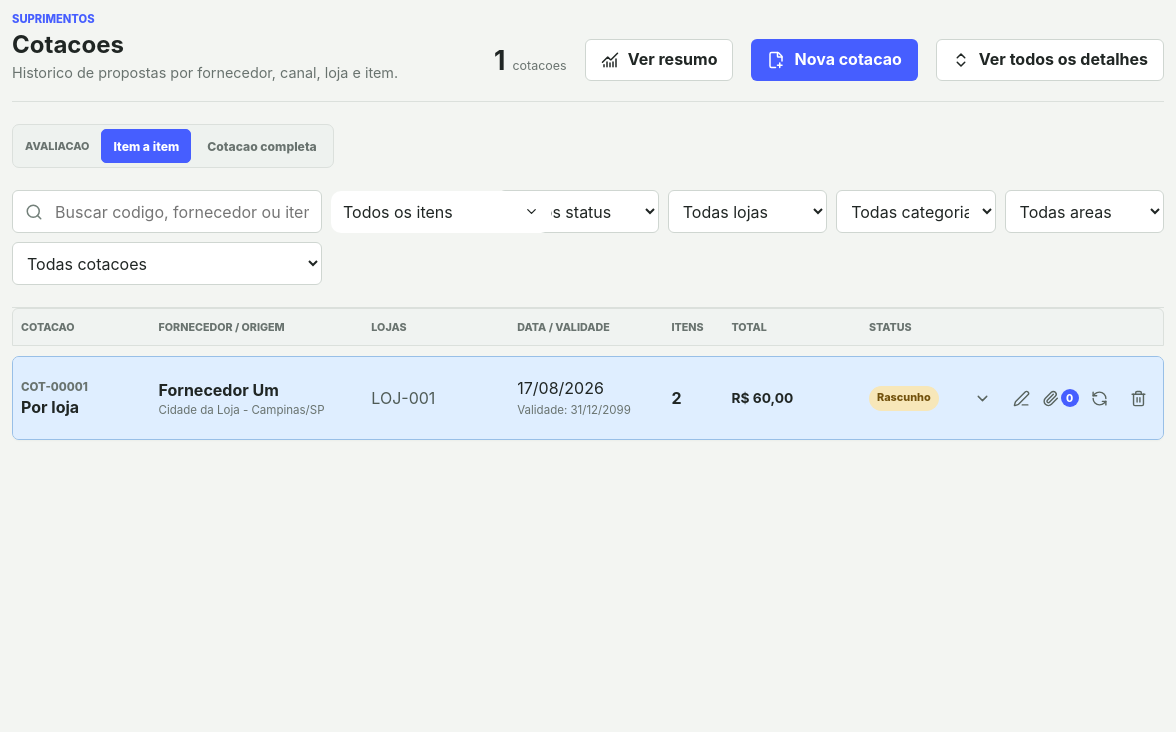
Test: SupplyQuotesPage › exibe link apenas para URL web segura e expande todos os detalhes
Click the button "Ver todos os detalhes" at (1050, 60), box [936,39,1164,81]
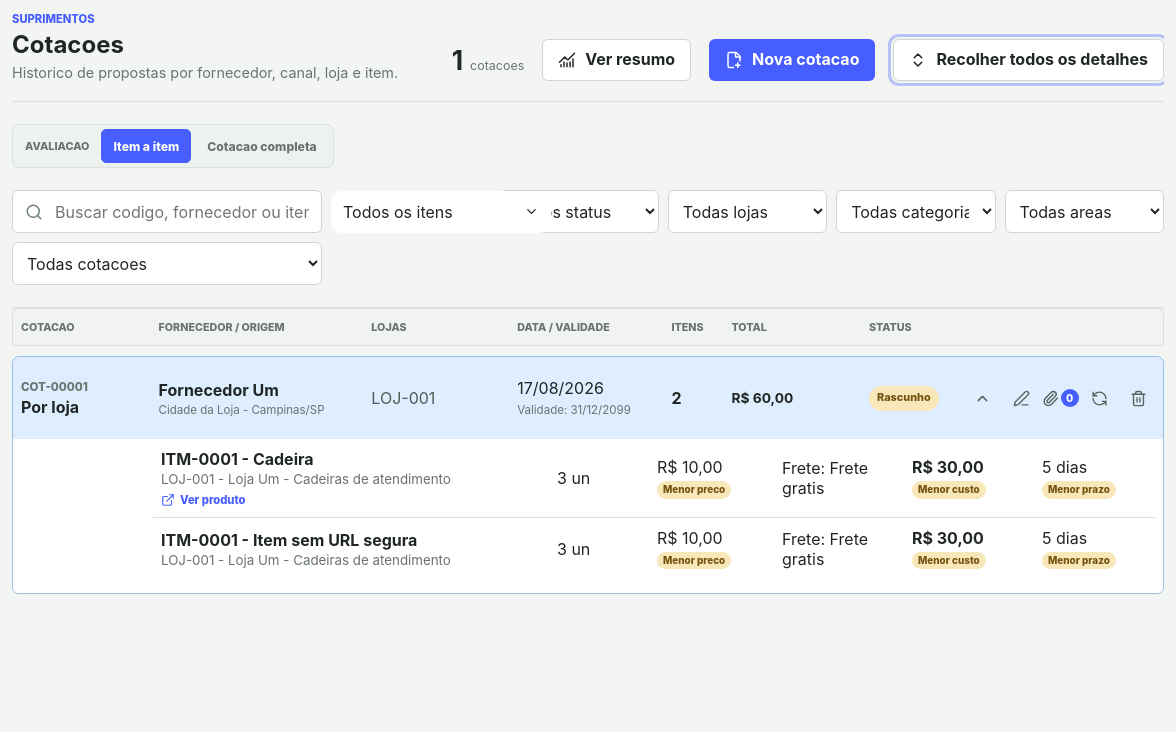
Now the number of links "Ver produto" is 1, box [161,493,246,507]
Now the text "ITM-0001 - Item sem URL segura" is shown, box [161,530,417,550]
